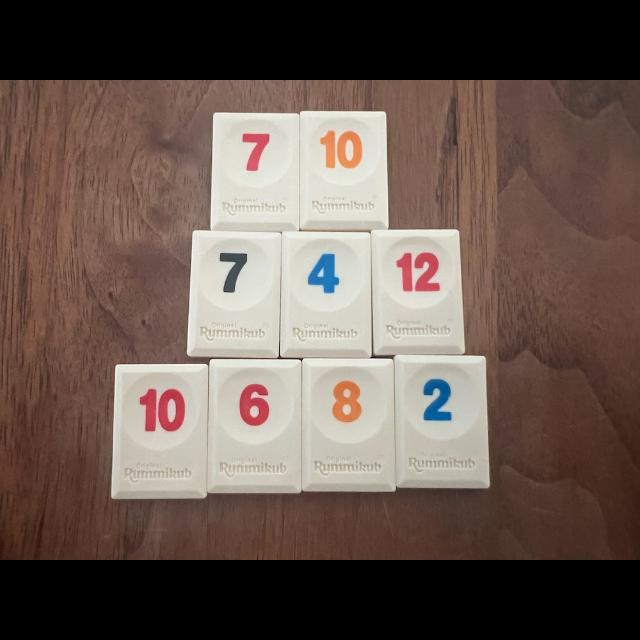black_7: (188, 231, 281, 358)
blue_2: (395, 355, 490, 488)
blue_4: (281, 232, 371, 356)
orange_10: (300, 111, 389, 231)
orange_8: (302, 359, 396, 491)
red_10: (111, 365, 208, 498)
red_12: (371, 230, 464, 355)
red_6: (208, 359, 301, 494)
red_7: (211, 112, 299, 232)
